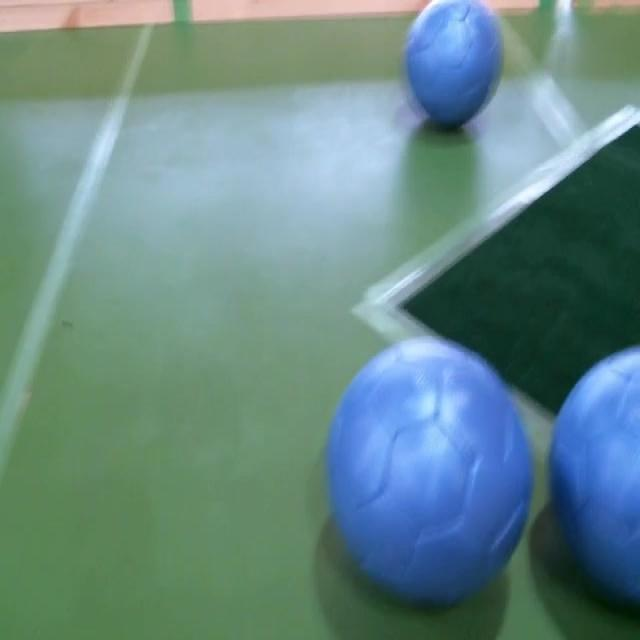blue_ball: (324, 335, 531, 595), (549, 346, 640, 617), (404, 0, 506, 129)
